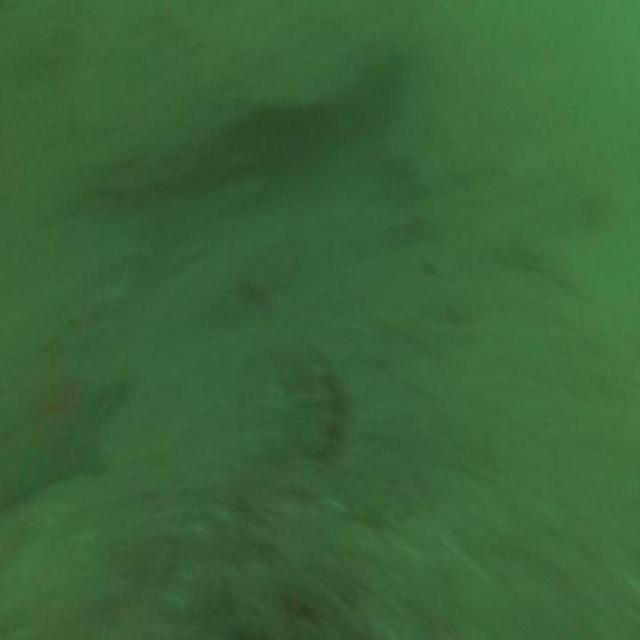holothurian: (311, 345, 348, 466)
starfish: (0, 344, 128, 502)
